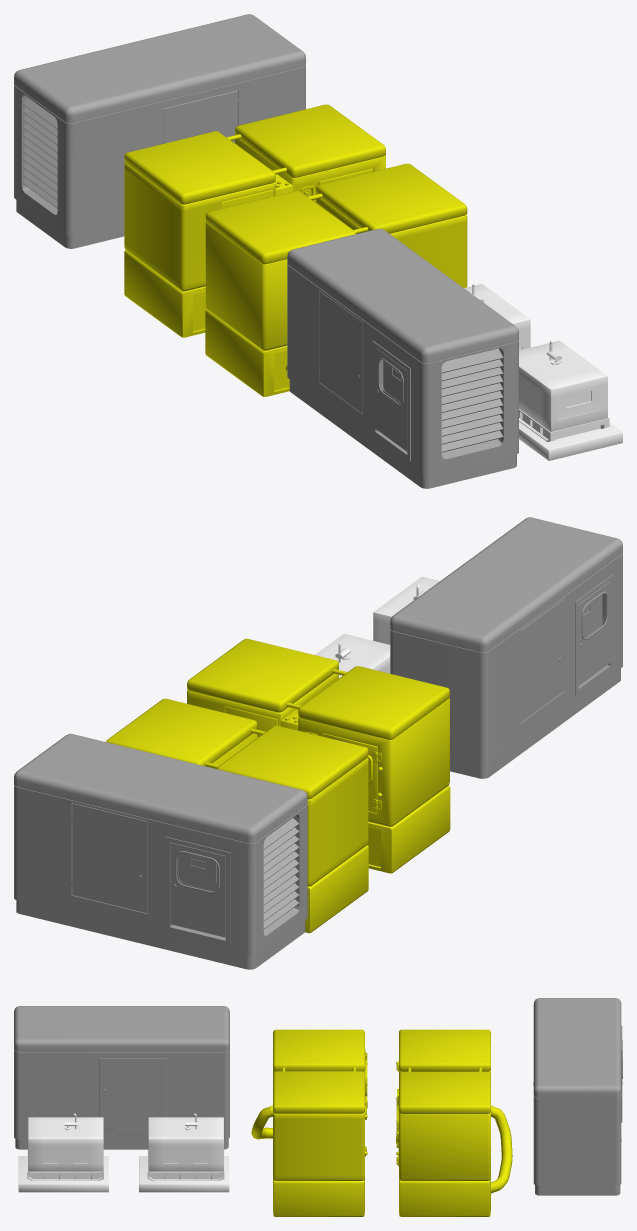
File: ElectricGenerator_LOD0.glb
3 views of the same model, one above another, from view 1: azimuth 30°, elevation 25°; view 2: azimuth 150°, elevation 25°; view 3: azimuth 270°, elevation 25° (orthographic). The views are drawn at different scales.
Parts seen in each view (by area): view 1: SM_GeneratorMain2, Mesh, gen:Mesh, Generator2; view 2: SM_GeneratorMain2, gen:Mesh, Mesh, Generator2; view 3: SM_GeneratorMain2, Mesh, gen:Mesh, Generator2.
Boxes of the visible parts, x1=… form: SM_GeneratorMain2: x1=14, y1=14, x2=518, y2=488; Mesh: x1=124, y1=104, x2=385, y2=337; gen:Mesh: x1=205, y1=163, x2=467, y2=396; Generator2: x1=464, y1=284, x2=622, y2=460; SM_GeneratorMain2: x1=14, y1=517, x2=622, y2=969; gen:Mesh: x1=187, y1=638, x2=450, y2=873; Mesh: x1=106, y1=698, x2=368, y2=933; Generator2: x1=315, y1=576, x2=439, y2=677; SM_GeneratorMain2: x1=14, y1=998, x2=622, y2=1195; Mesh: x1=396, y1=1029, x2=512, y2=1216; gen:Mesh: x1=251, y1=1029, x2=367, y2=1216; Generator2: x1=18, y1=1113, x2=229, y2=1192.
Bounding box in the file's own units: 0.428 × 0.2915 × 1.21.
3 materials, 1 textured.
